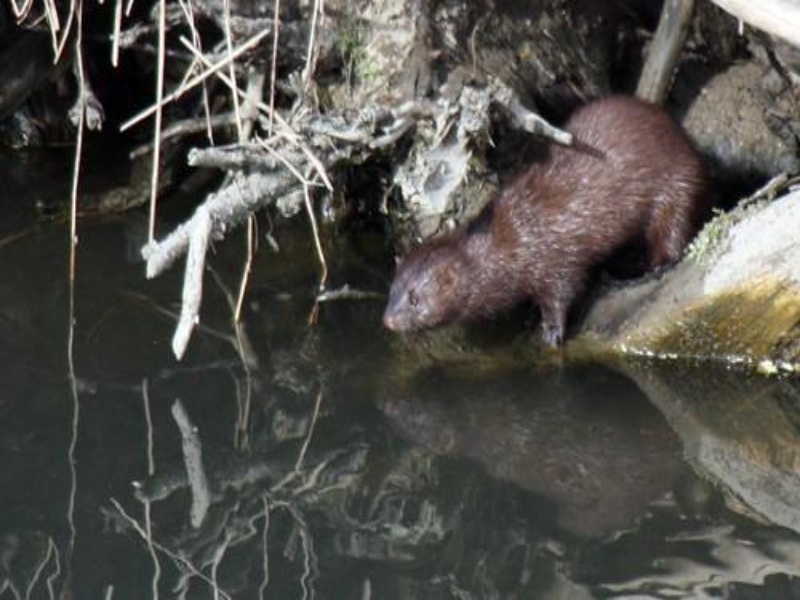minkish: (378, 91, 710, 350)
